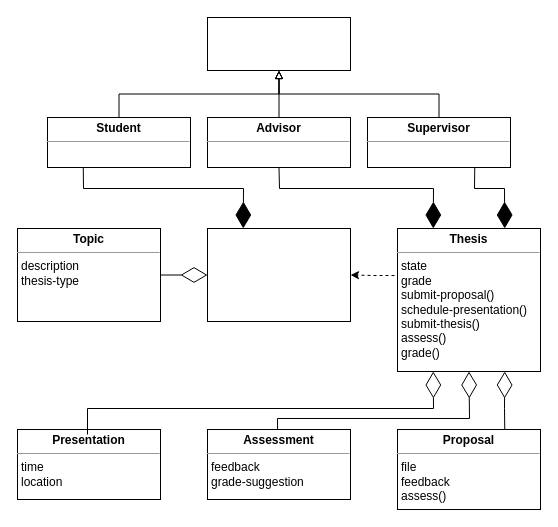
The diagram is 558 pixels wide and 527 high, and some of its shapes have lost their labels. Here are the shapes that lost their labels. From the top down, the centre of each, then its label:
pixel 278 43: User personal-information
pixel 278 275: Application state motivation assess()
